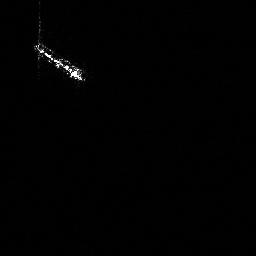ship: (32, 39, 89, 83)
